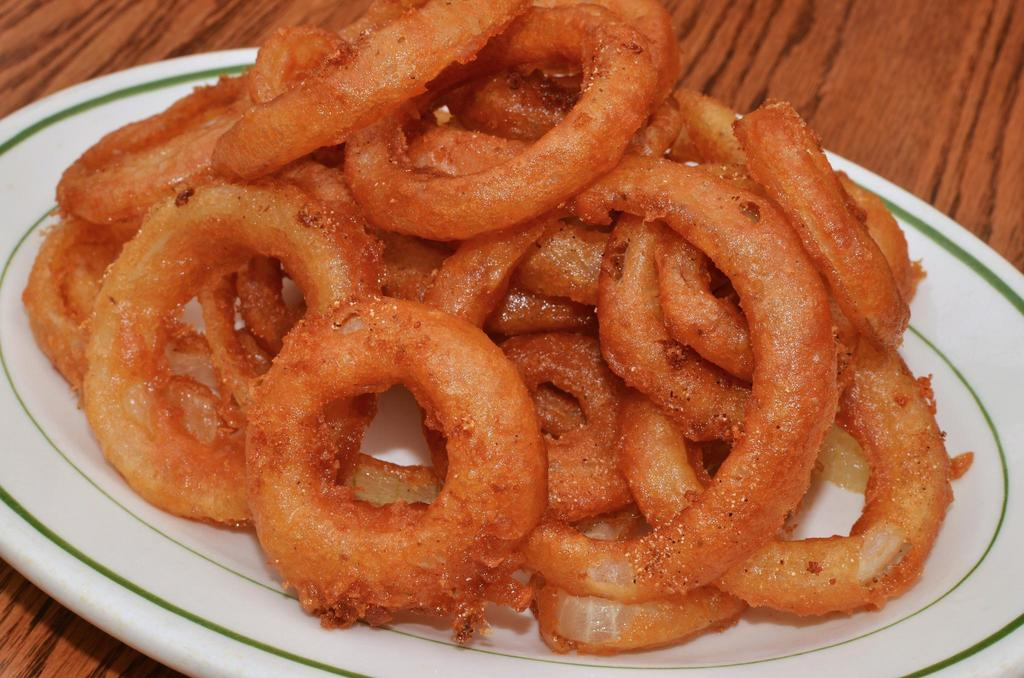face: (342, 0, 665, 257)
